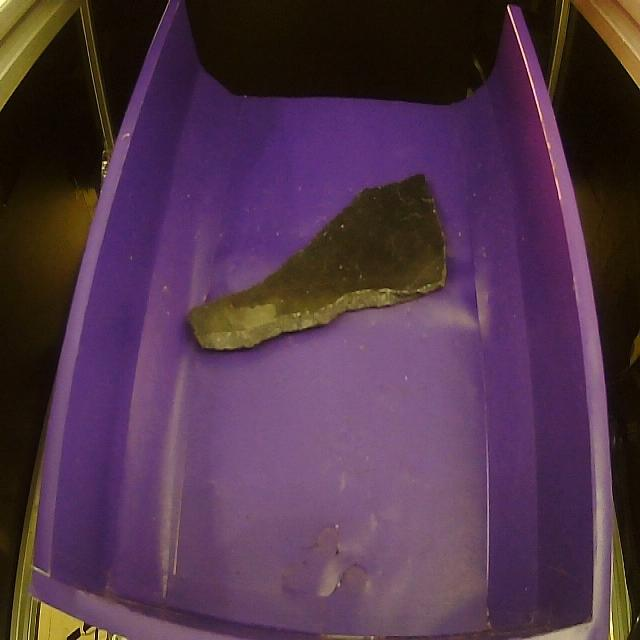china: (173, 156, 459, 361)
